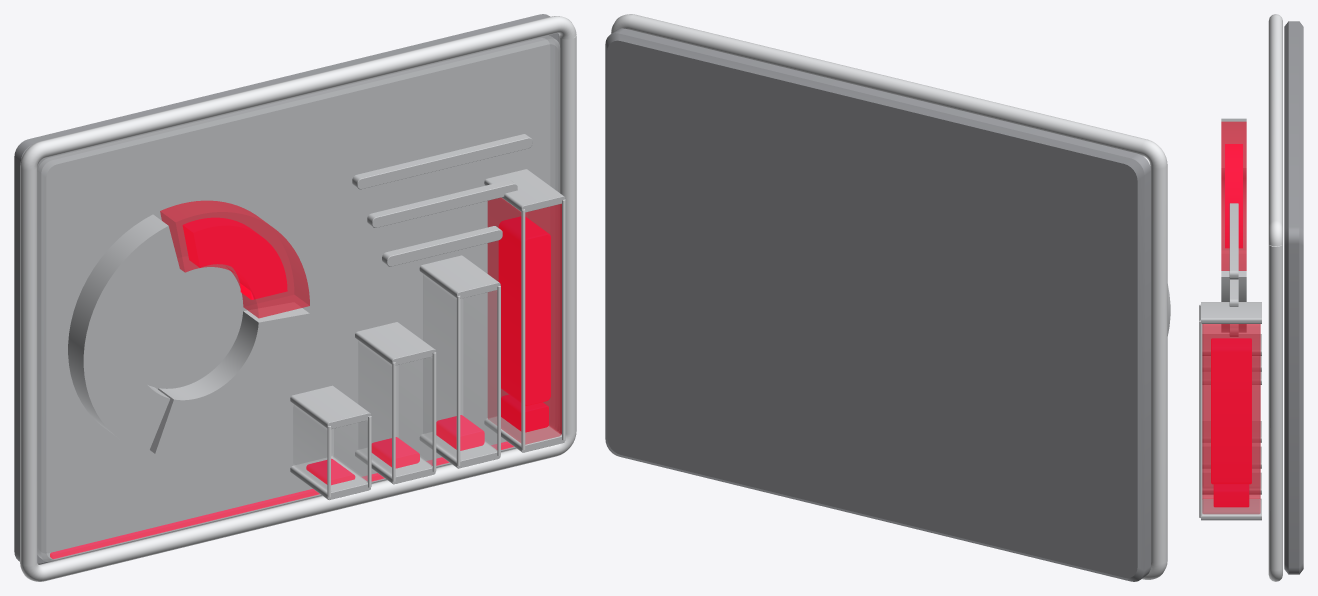
File: 09-dashboard.glb
The picture shows the model from 3 angles, left to right: view 1: azimuth 30°, elevation 25°; view 2: azimuth 150°, elevation 25°; view 3: azimuth 270°, elevation 25°; orthographic projection. The views are drawn at different scales.
Visible parts, largest first — view 1: BC clear optical glass, BC brushed iron, BC satin iron, BC polished iron bevel, BC ruby optical glass, BC internal ruby light; view 2: BC brushed iron, BC polished iron bevel; view 3: BC ruby optical glass, BC brushed iron, BC polished iron bevel, BC internal ruby light, BC satin iron, BC clear optical glass.
Boxes of the visible parts, x1,y1,x2,y2 form: BC clear optical glass: (37, 35, 560, 562); BC brushed iron: (14, 14, 559, 564); BC satin iron: (68, 134, 565, 499); BC polished iron bevel: (20, 16, 576, 581); BC ruby optical glass: (160, 197, 561, 444); BC internal ruby light: (50, 216, 550, 559); BC brushed iron: (605, 28, 1150, 581); BC polished iron bevel: (611, 14, 1167, 579); BC ruby optical glass: (1202, 121, 1260, 513); BC brushed iron: (1284, 21, 1303, 574); BC polished iron bevel: (1199, 14, 1282, 581); BC internal ruby light: (1211, 144, 1251, 507); BC satin iron: (1201, 118, 1261, 520); BC clear optical glass: (1203, 356, 1259, 472).
Size of the model in its own units: 2.06 by 1.56 by 0.4082.
